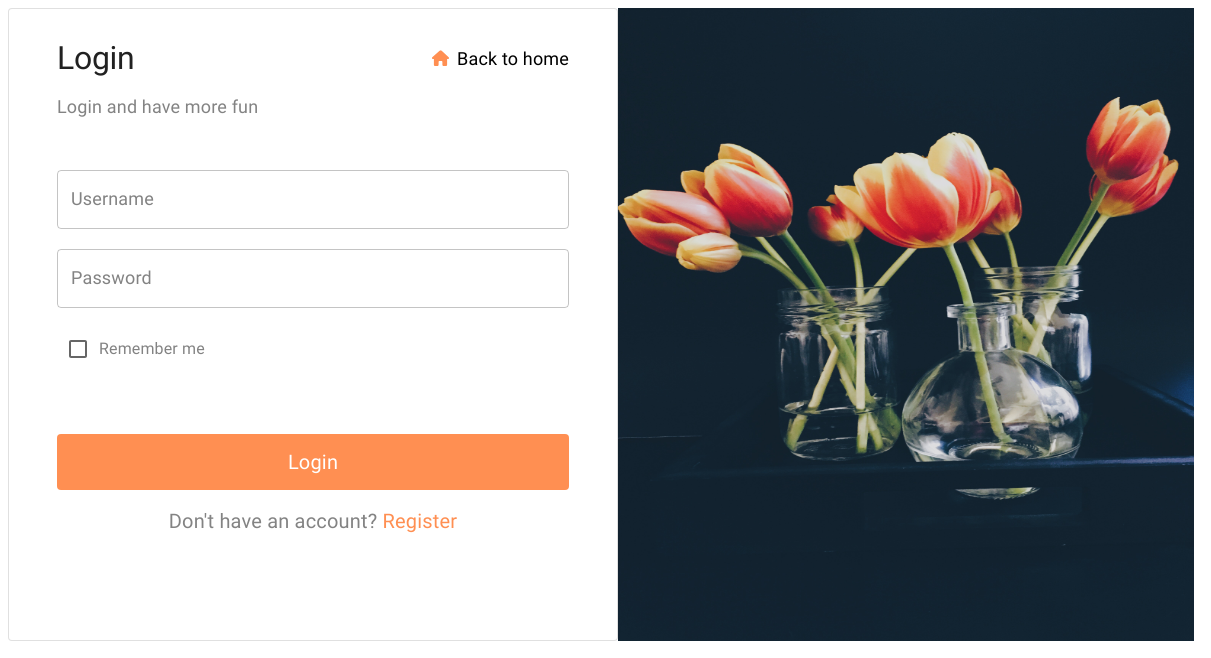
Test: <LoginComponent> › should display error message if password is less than 6 characters
Step 1. Type "12345" into the password field with placeholder "Password" → coordinates (313, 279), box [57,249,569,308]
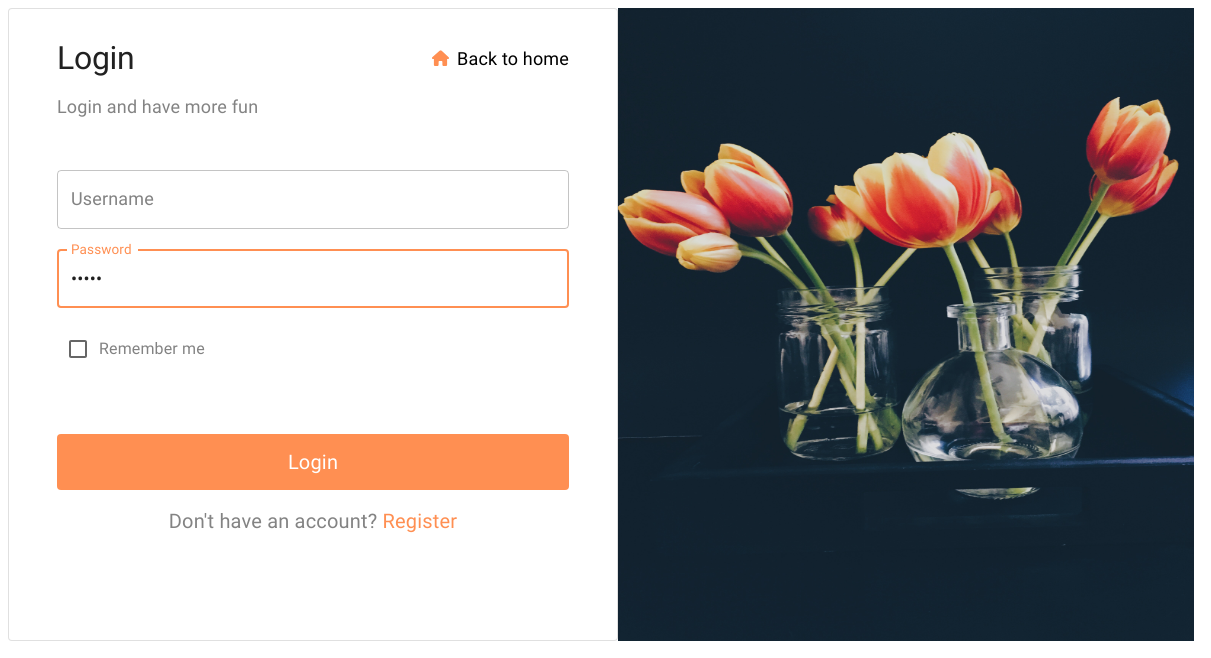
Step 2. Click the button "Login" → coordinates (313, 462), box [57,434,569,490]
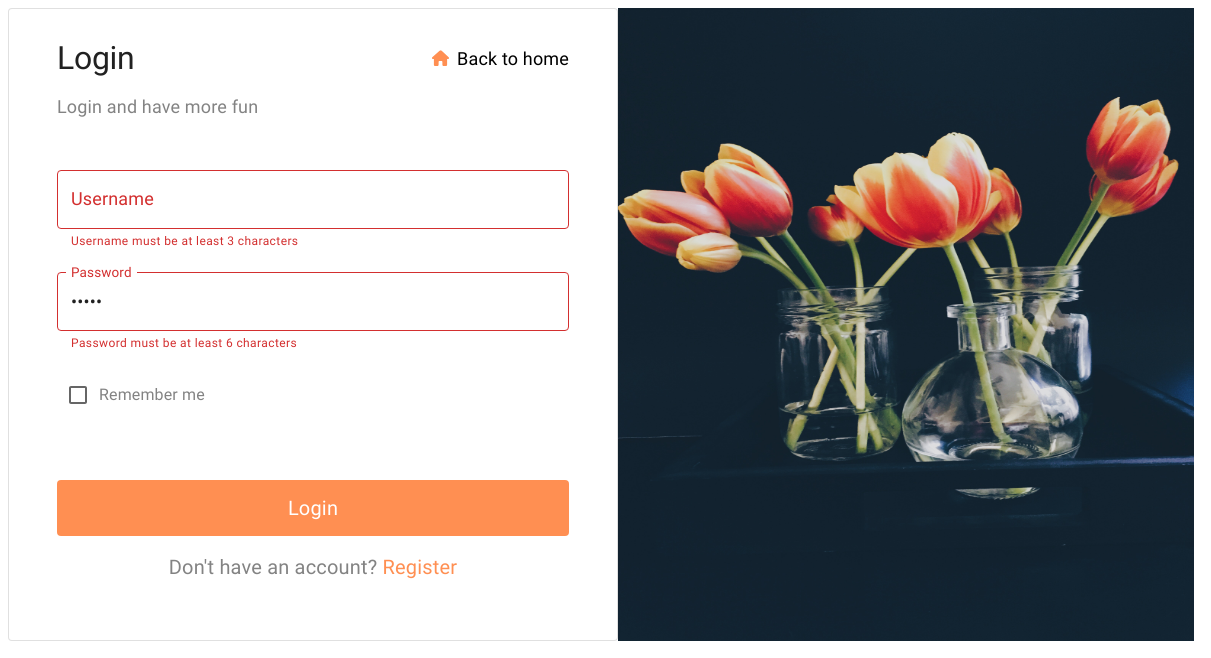
Now the text "Password must be at least 6 characters" is shown, box [71,336,297,350]
